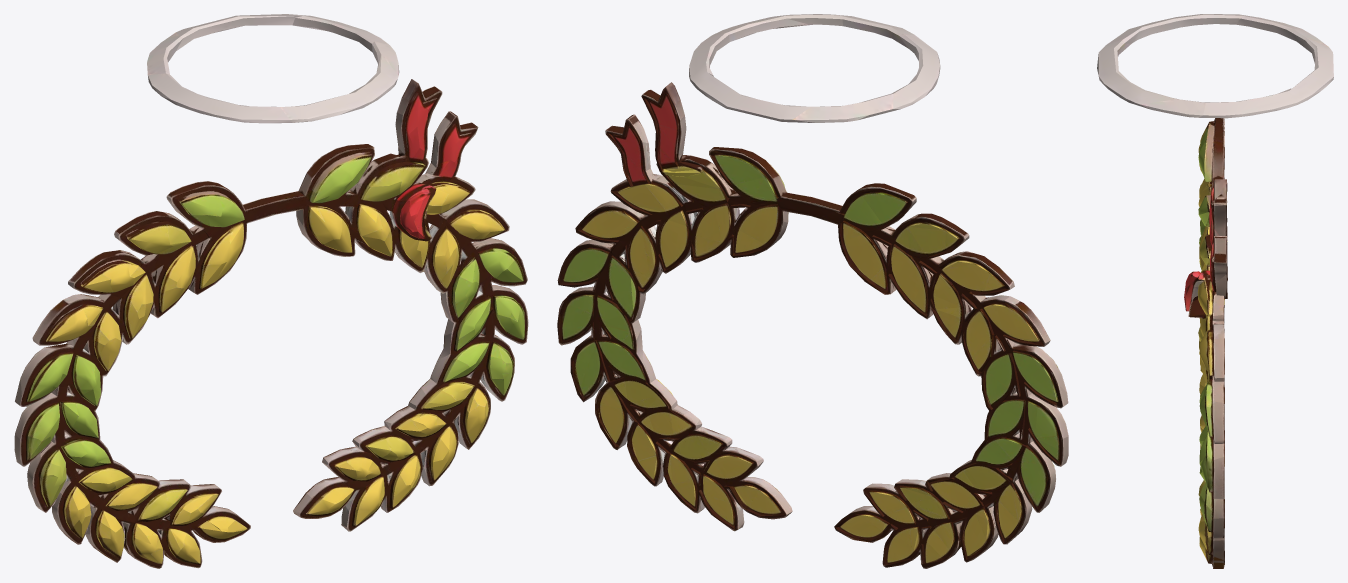
File: hat_laurel.glb
3 renders of one model, left to right at view 1: azimuth 30°, elevation 25°; view 2: azimuth 150°, elevation 25°; view 3: azimuth 270°, elevation 25°, orthographic. The views are drawn at different scales.
Size of the model in its own units: 1.89 by 1.74 by 0.8068.
Materials: 1 (1 with a texture image).
